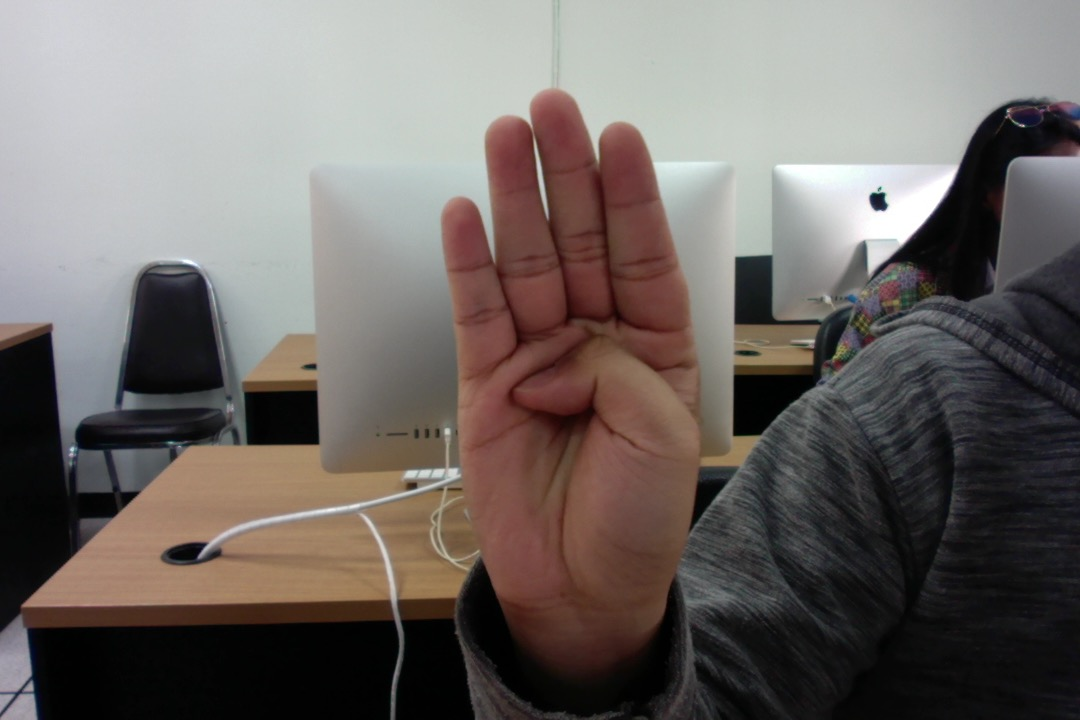bor: (422, 72, 728, 686)
